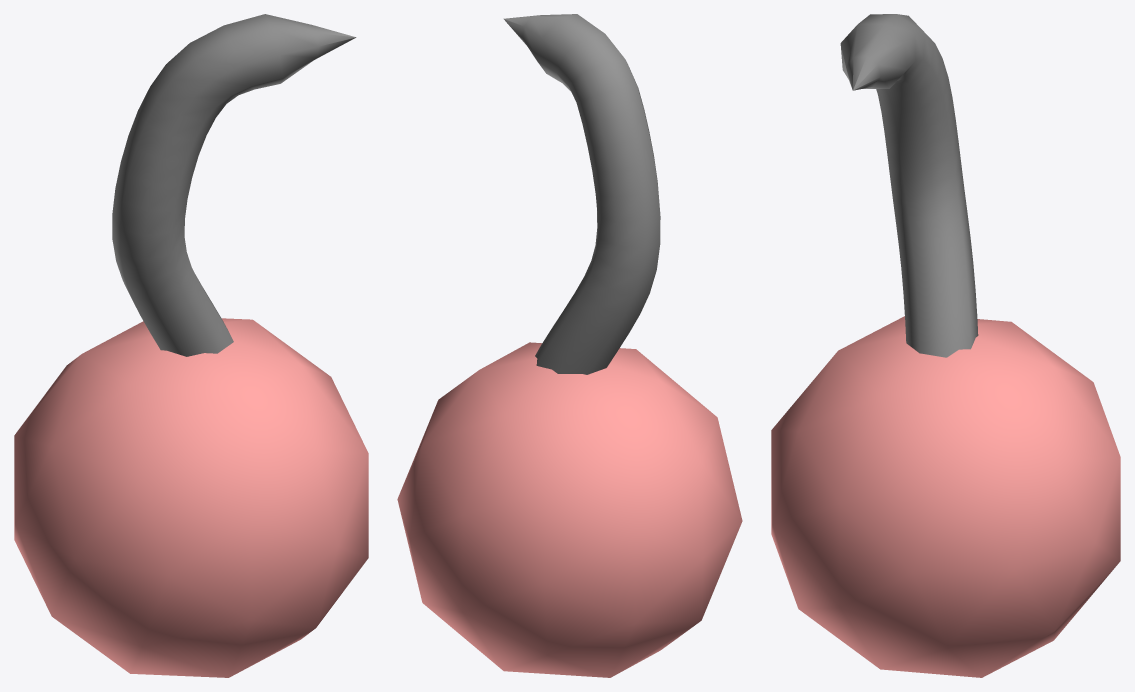
File: cherry.glb
3 renders of one model, left to right at view 1: azimuth 30°, elevation 25°; view 2: azimuth 150°, elevation 25°; view 3: azimuth 270°, elevation 25°, orthographic. The views are drawn at different scales.
Visible parts, largest first — view 1: RGBA(1.000, 0.369, 0.357, 1.000):ShapeMaterial (Instance), RGBA(0.278, 0.278, 0.278, 1.000):ButtonWhite (Instance) (Ins; view 2: RGBA(1.000, 0.369, 0.357, 1.000):ShapeMaterial (Instance), RGBA(0.278, 0.278, 0.278, 1.000):ButtonWhite (Instance) (Ins; view 3: RGBA(1.000, 0.369, 0.357, 1.000):ShapeMaterial (Instance), RGBA(0.278, 0.278, 0.278, 1.000):ButtonWhite (Instance) (Ins.
Boxes of the visible parts, x1=… form: RGBA(1.000, 0.369, 0.357, 1.000):ShapeMaterial (Instance): x1=14, y1=318, x2=368, y2=677; RGBA(0.278, 0.278, 0.278, 1.000):ButtonWhite (Instance) (Ins: x1=112, y1=14, x2=356, y2=356; RGBA(1.000, 0.369, 0.357, 1.000):ShapeMaterial (Instance): x1=397, y1=342, x2=742, y2=677; RGBA(0.278, 0.278, 0.278, 1.000):ButtonWhite (Instance) (Ins: x1=503, y1=14, x2=660, y2=374; RGBA(1.000, 0.369, 0.357, 1.000):ShapeMaterial (Instance): x1=771, y1=316, x2=1120, y2=677; RGBA(0.278, 0.278, 0.278, 1.000):ButtonWhite (Instance) (Ins: x1=840, y1=14, x2=978, y2=357.
Size of what is drawn, in the model's own units: 0.2927 by 0.582 by 0.2784.
